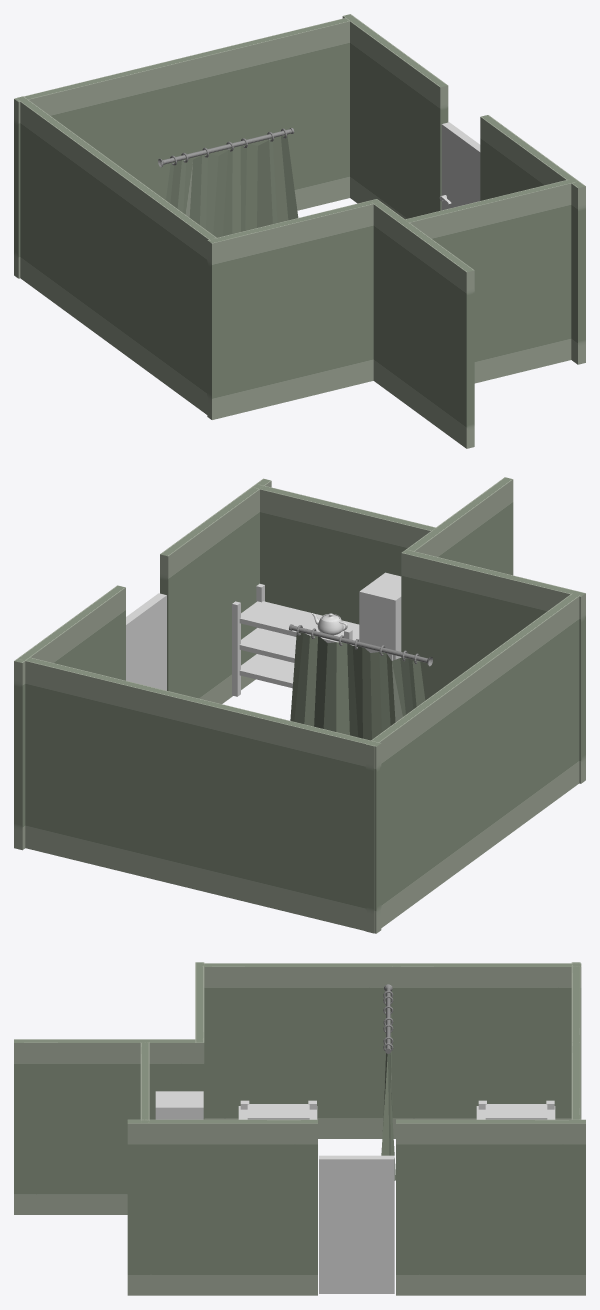
Rendered from testjes.FBX.
3 views of the same model, one above another, from view 1: azimuth 30°, elevation 25°; view 2: azimuth 150°, elevation 25°; view 3: azimuth 270°, elevation 25° (orthographic). The views are drawn at different scales.
Visible parts, largest first — view 1: Box002, Box008, Box001, Box004, Box003, Box005, Box007, Box009, Object, Box006, Box031, rail_1; view 2: Box009, Box008, Box005, Box003, Box006, Box002, Box001, Object, Box007, Box004, Box031, Box023 (+5 smaller); view 3: Box006, Box007, Box003, Box005, Box004, Box031, Box023, Object, Box022, Box027, Box002, Box009 (+3 smaller).
Boxes of the visible parts, x1=… form: Box002: x1=207, y1=199, x2=379, y2=419; Box008: x1=183, y1=17, x2=351, y2=210; Box001: x1=404, y1=179, x2=576, y2=383; Box004: x1=371, y1=199, x2=474, y2=448; Box003: x1=113, y1=167, x2=217, y2=414; Box005: x1=15, y1=96, x2=120, y2=345; Box007: x1=342, y1=14, x2=448, y2=219; Box009: x1=14, y1=57, x2=187, y2=278; Object: x1=166, y1=135, x2=298, y2=237; Box006: x1=480, y1=115, x2=585, y2=364; Box031: x1=441, y1=122, x2=480, y2=210; rail_1: x1=158, y1=128, x2=294, y2=167; Box009: x1=197, y1=699, x2=381, y2=933; Box008: x1=19, y1=657, x2=202, y2=890; Box005: x1=365, y1=669, x2=477, y2=933; Box003: x1=469, y1=593, x2=579, y2=857; Box006: x1=160, y1=478, x2=271, y2=703; Box002: x1=402, y1=549, x2=585, y2=783; Box001: x1=254, y1=484, x2=436, y2=624; Object: x1=290, y1=632, x2=425, y2=740; Box007: x1=14, y1=585, x2=125, y2=850; Box004: x1=401, y1=477, x2=513, y2=657; Box031: x1=126, y1=593, x2=166, y2=690; Box023: x1=359, y1=572, x2=401, y2=660; Box006: x1=127, y1=1119, x2=317, y2=1295; Box007: x1=396, y1=1119, x2=585, y2=1295; Box003: x1=202, y1=963, x2=392, y2=1138; Box005: x1=391, y1=963, x2=581, y2=1138; Box004: x1=14, y1=1039, x2=203, y2=1214; Box031: x1=319, y1=1155, x2=394, y2=1293; Box023: x1=155, y1=1091, x2=203, y2=1119; Object: x1=381, y1=999, x2=395, y2=1180; Box022: x1=247, y1=1104, x2=309, y2=1119; Box027: x1=485, y1=1104, x2=547, y2=1119; Box002: x1=195, y1=962, x2=204, y2=1119; Box009: x1=571, y1=962, x2=580, y2=1042.
Bounding box in the file's own units: 219 × 109 × 328.
Materials: 2 (1 with a texture image).
